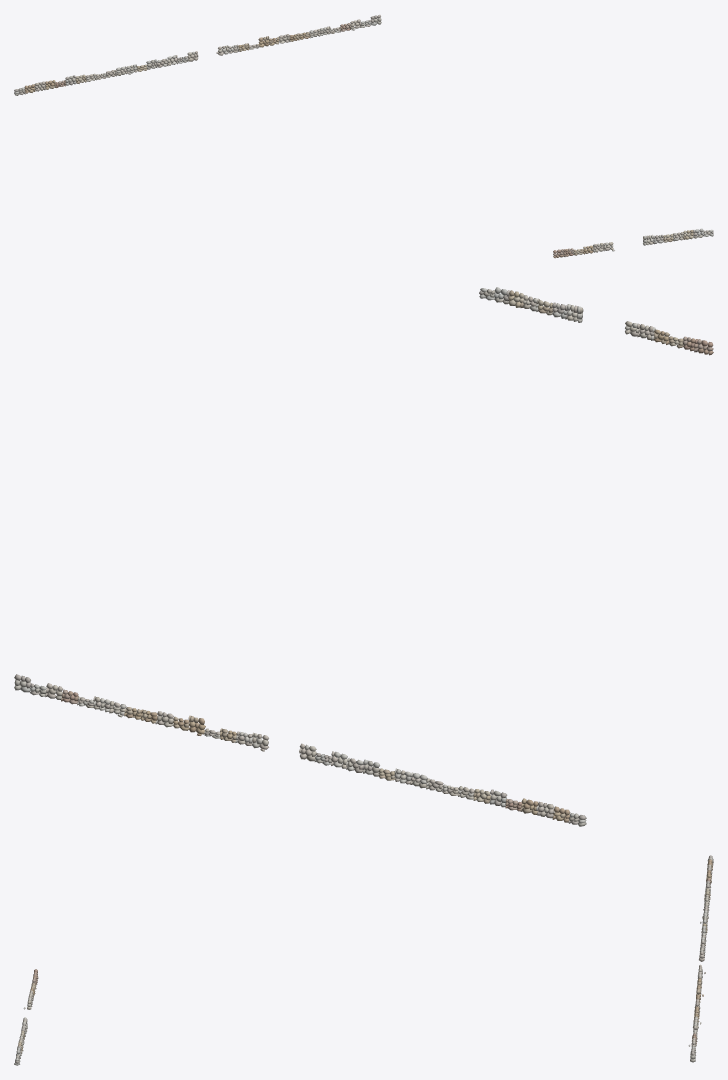
File: farm_17_16_near.glb
3 renders of one model, top to bottom at view 1: azimuth 30°, elevation 25°; view 2: azimuth 150°, elevation 25°; view 3: azimuth 270°, elevation 25°, orthographic. The views are drawn at different scales.
Parts seen in each view (by area): view 1: geometry_0; view 2: geometry_0; view 3: geometry_0.
Boxes of the visible parts, x1,y1,x2,y2 form: geometry_0: (14, 14, 713, 258); geometry_0: (14, 287, 713, 826); geometry_0: (14, 855, 713, 1065).
Bounding box in the file's own units: 60.85 × 3.62 × 88.2.
